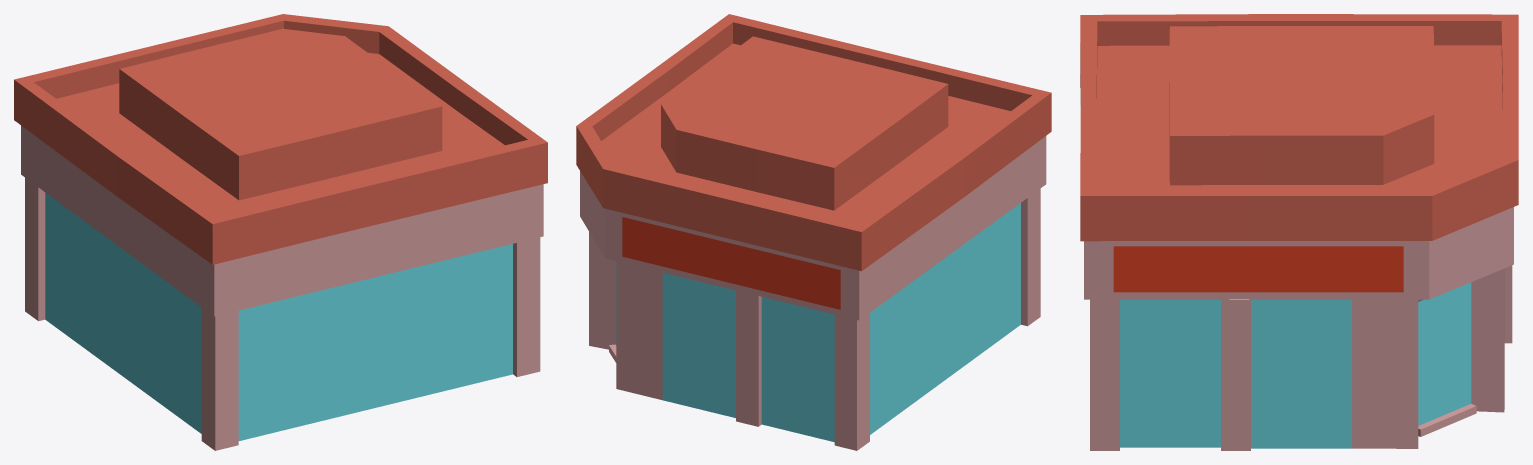
File: shangdian_01.FBX
The picture shows the model from 3 angles, left to right: view 1: azimuth 30°, elevation 25°; view 2: azimuth 150°, elevation 25°; view 3: azimuth 270°, elevation 25°; orthographic projection. The views are drawn at different scales.
Visible parts, largest first — view 1: shangdian_01; view 2: shangdian_01; view 3: shangdian_01.
Boxes of the visible parts, <box> form: shangdian_01: <box>14,14,547,450</box>; shangdian_01: <box>576,14,1051,450</box>; shangdian_01: <box>1080,14,1518,450</box>.
Bounding box in the file's own units: 139 × 100 × 142.
